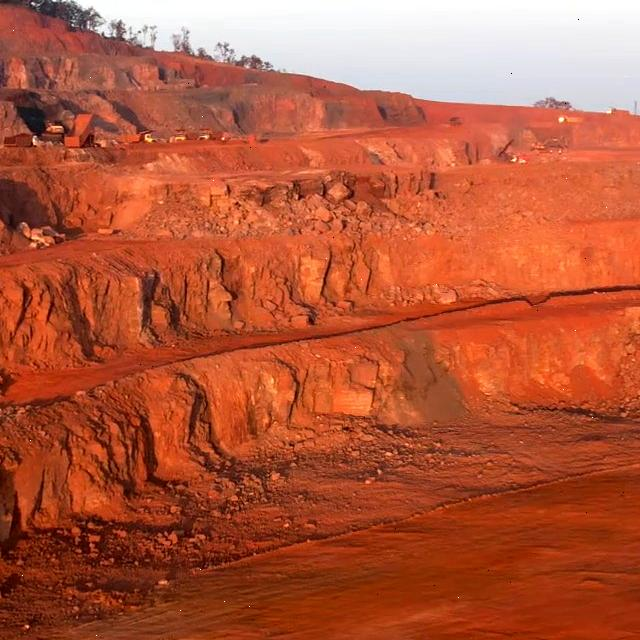Dumper truck: (66, 113, 98, 145), (196, 127, 232, 144), (119, 128, 157, 144), (6, 133, 38, 148), (175, 126, 197, 143)
